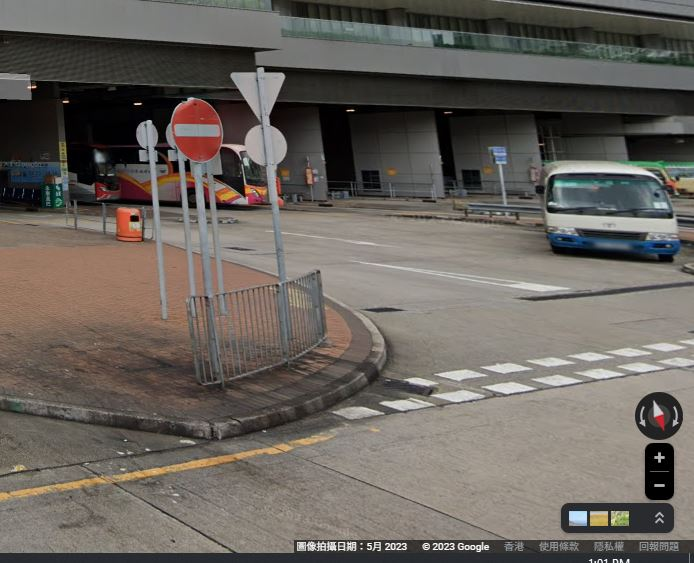No Enter: (168, 97, 224, 159)
